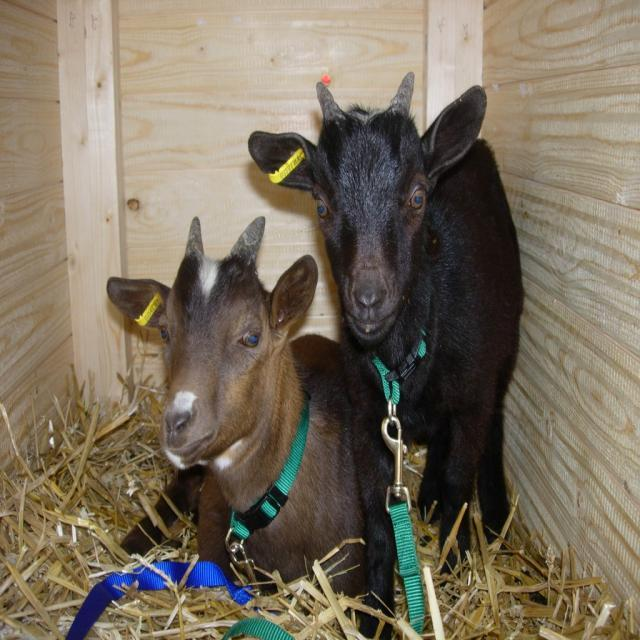Goat: (248, 69, 525, 625), (107, 213, 370, 629)
